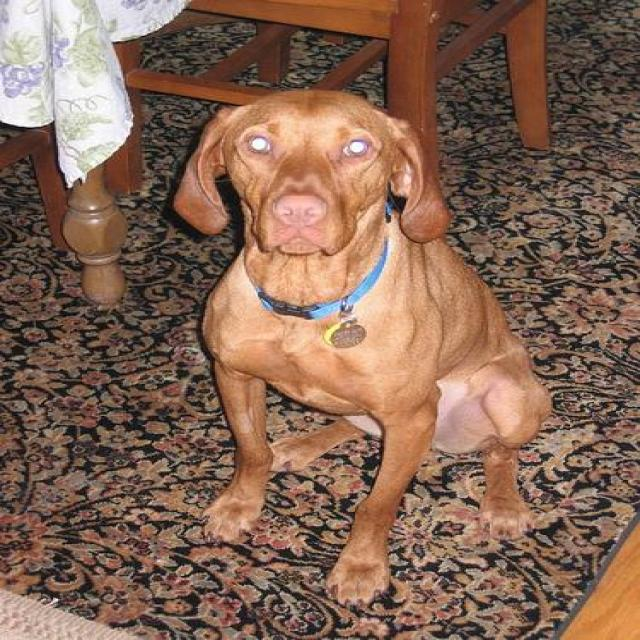vizsla: (176, 87, 560, 603)
